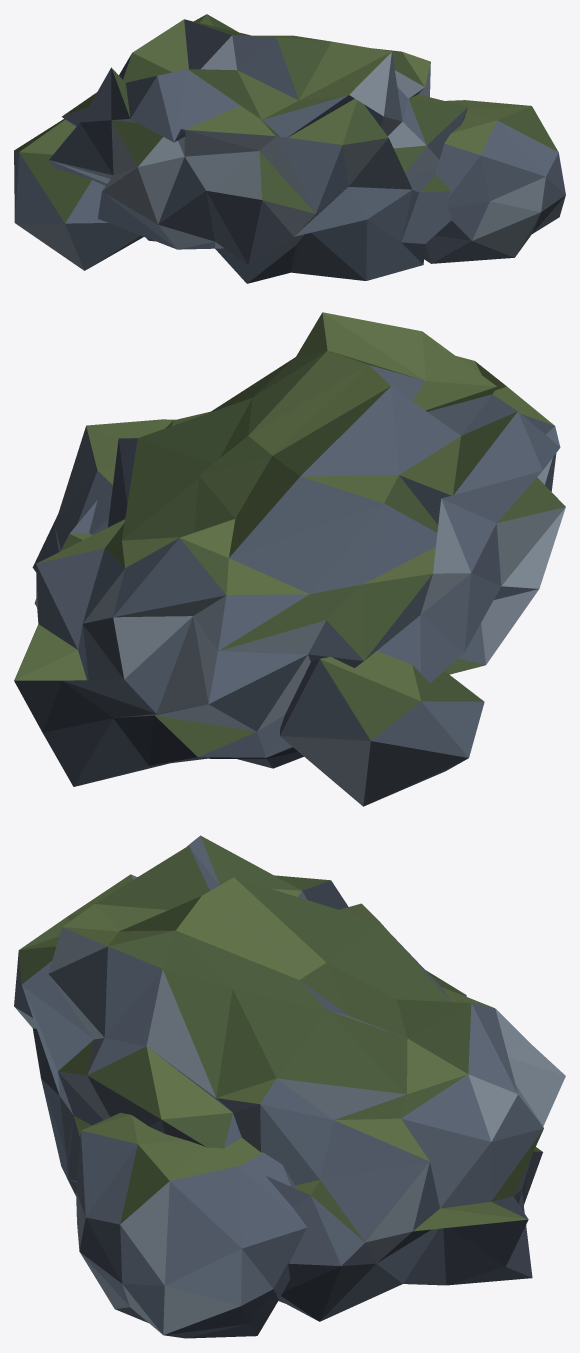
The model's file is rocks_c.glb.
The picture shows the model from 3 angles, top to bottom: view 1: azimuth 30°, elevation 25°; view 2: azimuth 150°, elevation 25°; view 3: azimuth 270°, elevation 25°; orthographic projection. The views are drawn at different scales.
Parts seen in each view (by area): view 1: rocks_c; view 2: rocks_c; view 3: rocks_c.
Part boxes in pixels (x1,y1,x2,y2): rocks_c: (14, 14, 565, 283); rocks_c: (14, 312, 565, 806); rocks_c: (14, 835, 565, 1338).
Bounding box in the file's own units: 3.23 × 1.87 × 2.91.
1 material, 1 textured.
